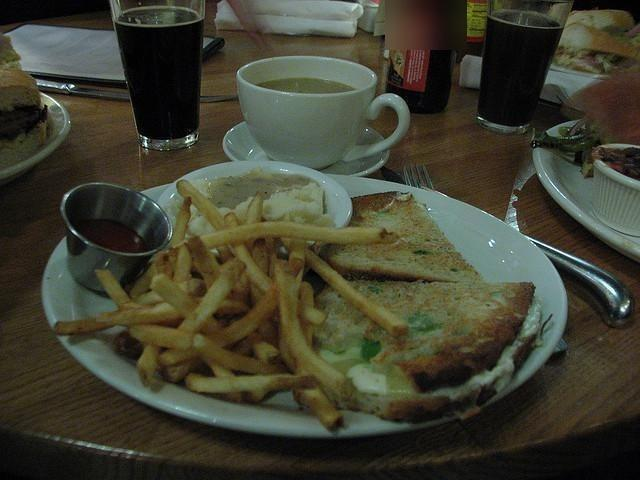cup-handle: (235, 55, 410, 170)
glass-normal: (111, 1, 208, 150), (472, 1, 572, 135)
